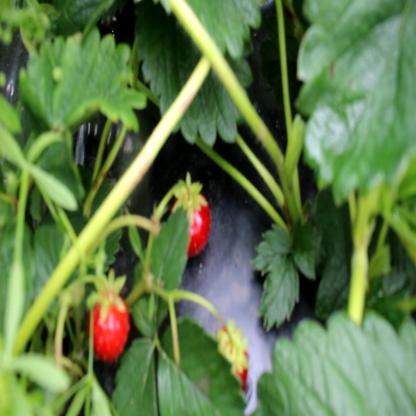ripe: (81, 281, 132, 368), (209, 324, 256, 396), (166, 188, 214, 254)
